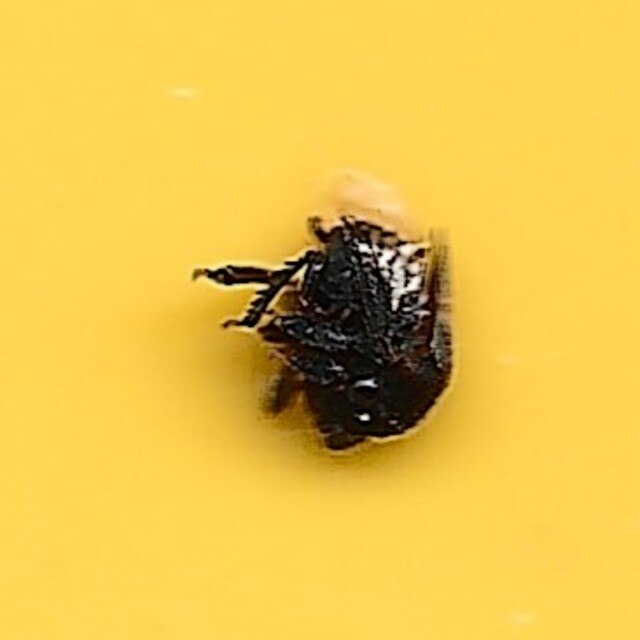Hemiptera: (175, 183, 465, 457)
